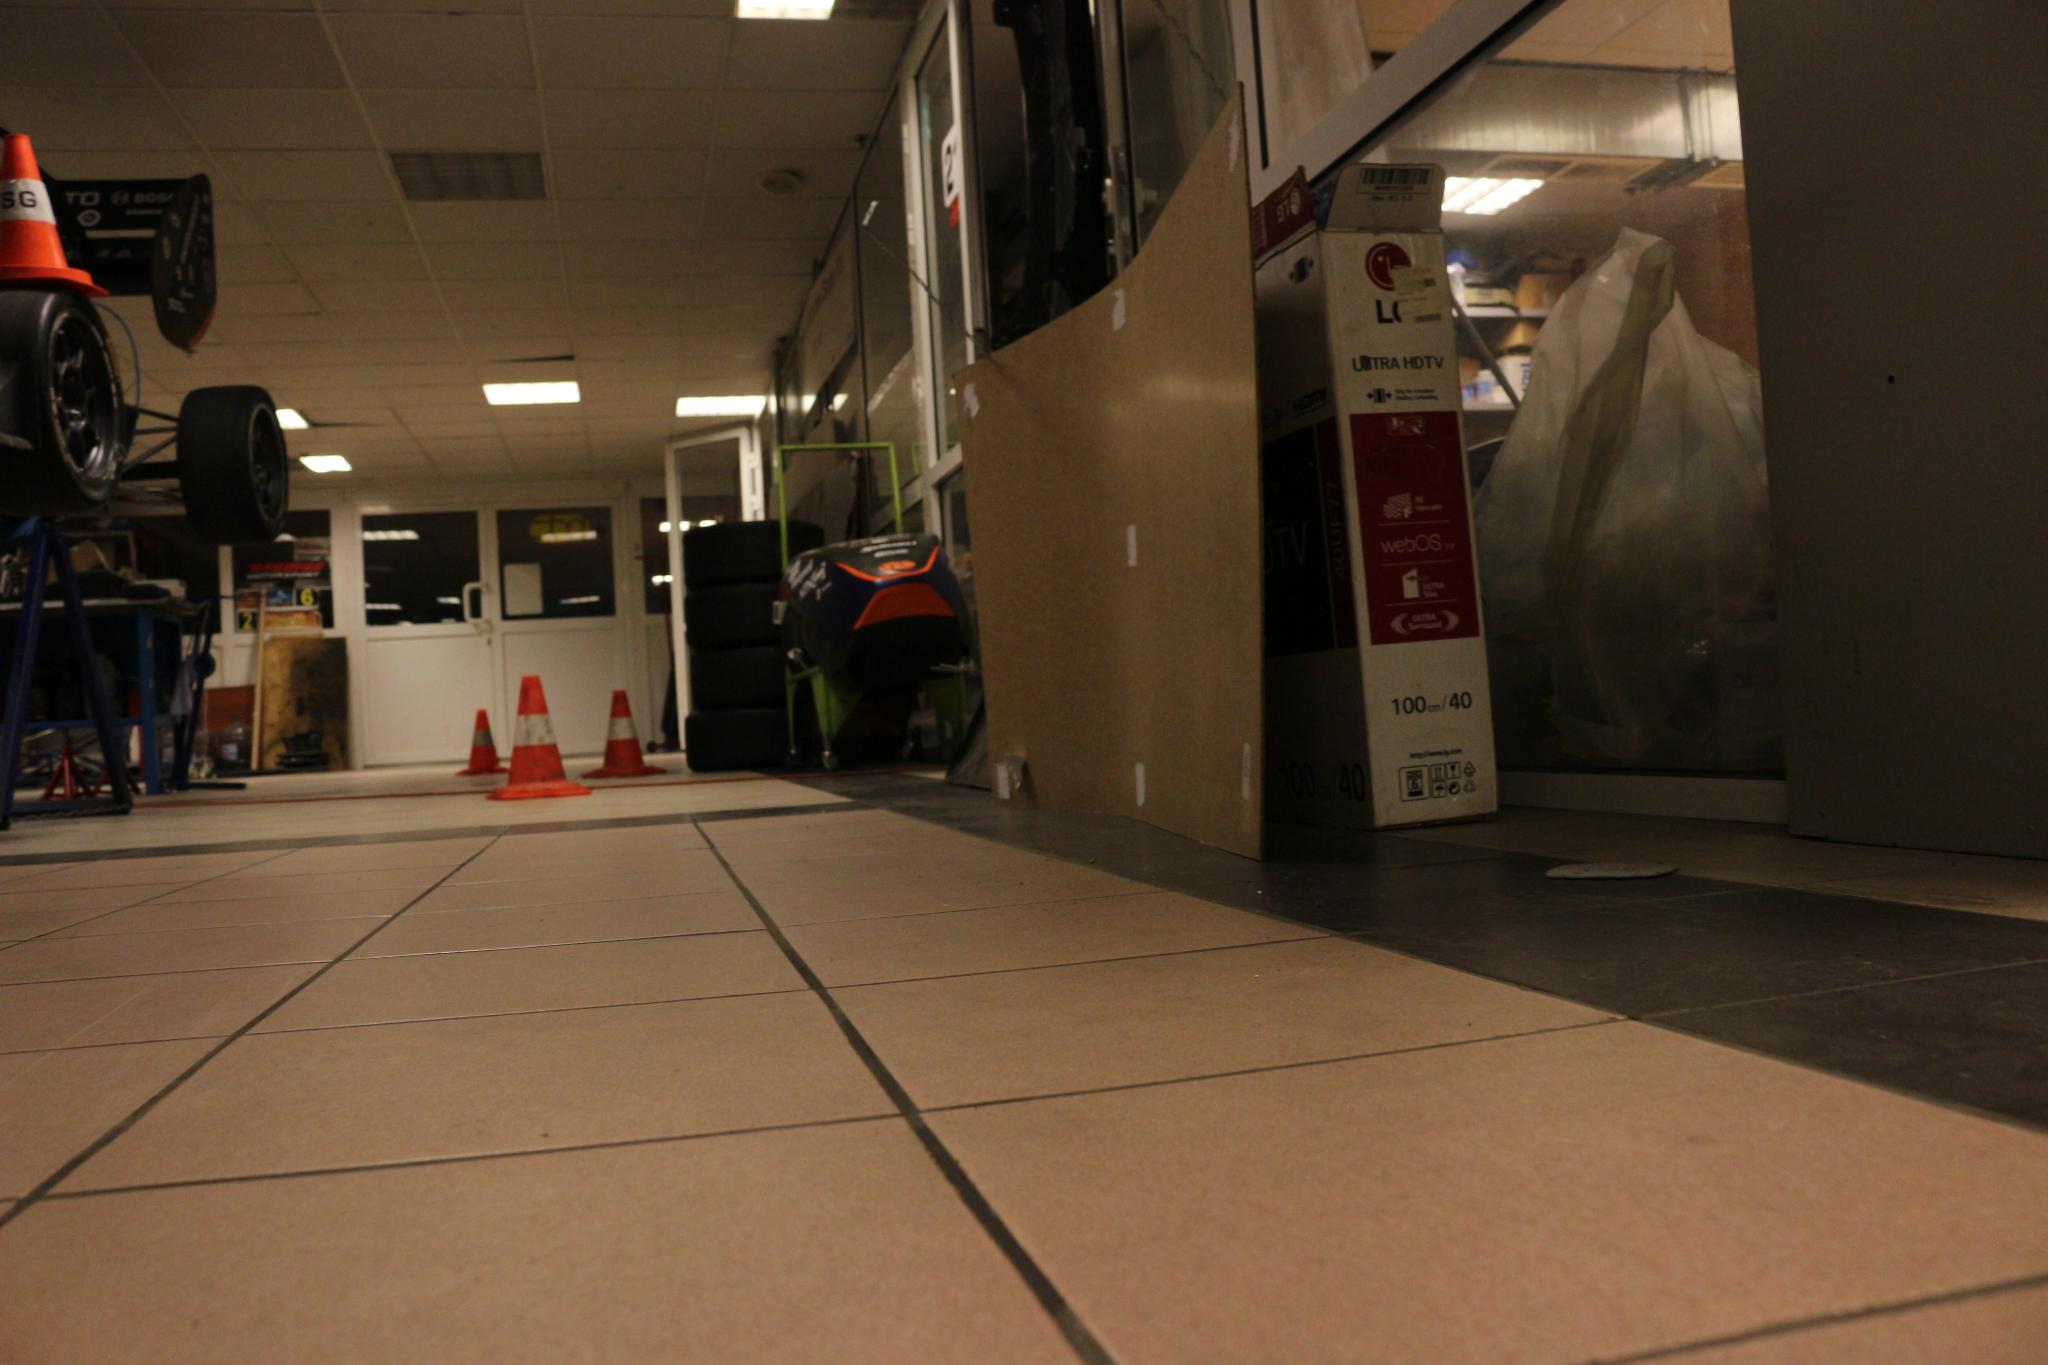Orange_Cone: (0, 110, 104, 292), (486, 670, 592, 800), (580, 689, 667, 777), (454, 707, 509, 775)
